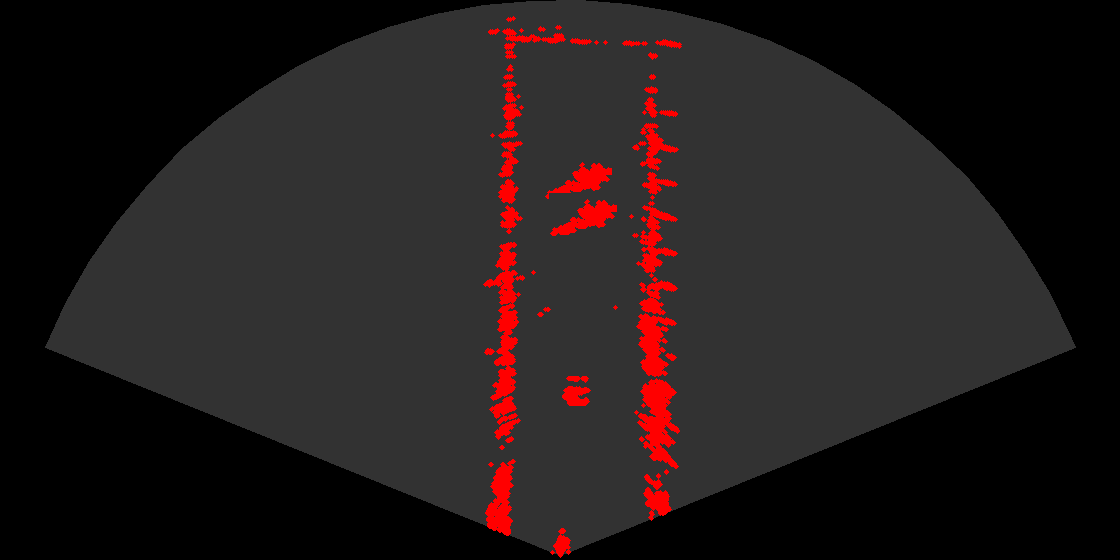ball: (542, 368, 602, 409)
frogman: (544, 156, 612, 203), (549, 193, 617, 240)
